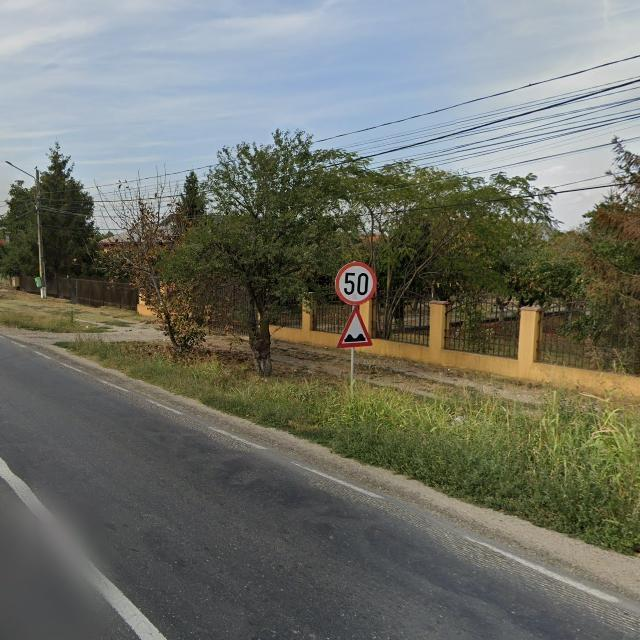forb_speed_over_50: (335, 261, 377, 306)
